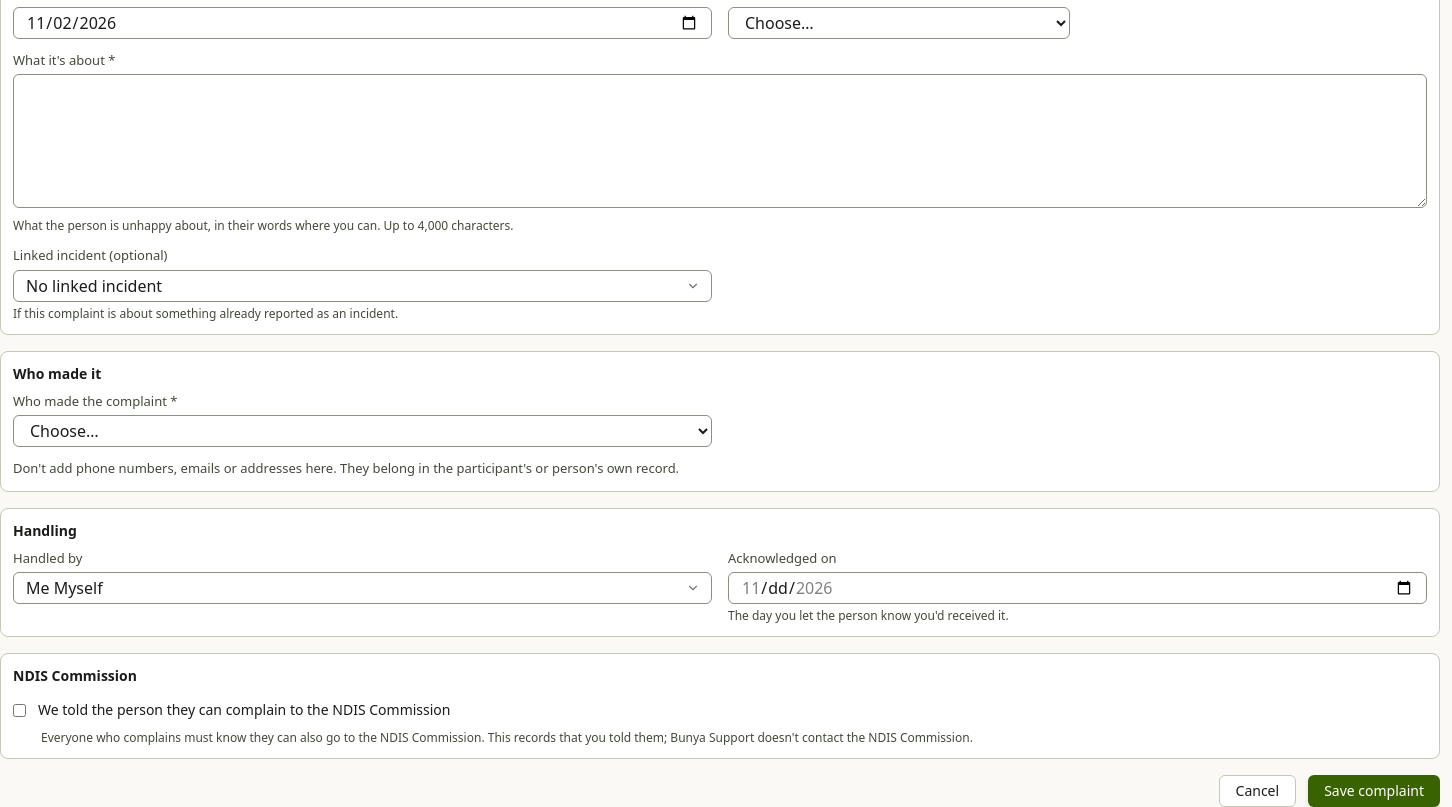
Test case: ComplaintFormPage › shows the required-field messages, makes no request, and focuses the first invalid field
(page scrolled)
Click the button "Save complaint": coordinates (1374, 791) [1308,775,1440,806]
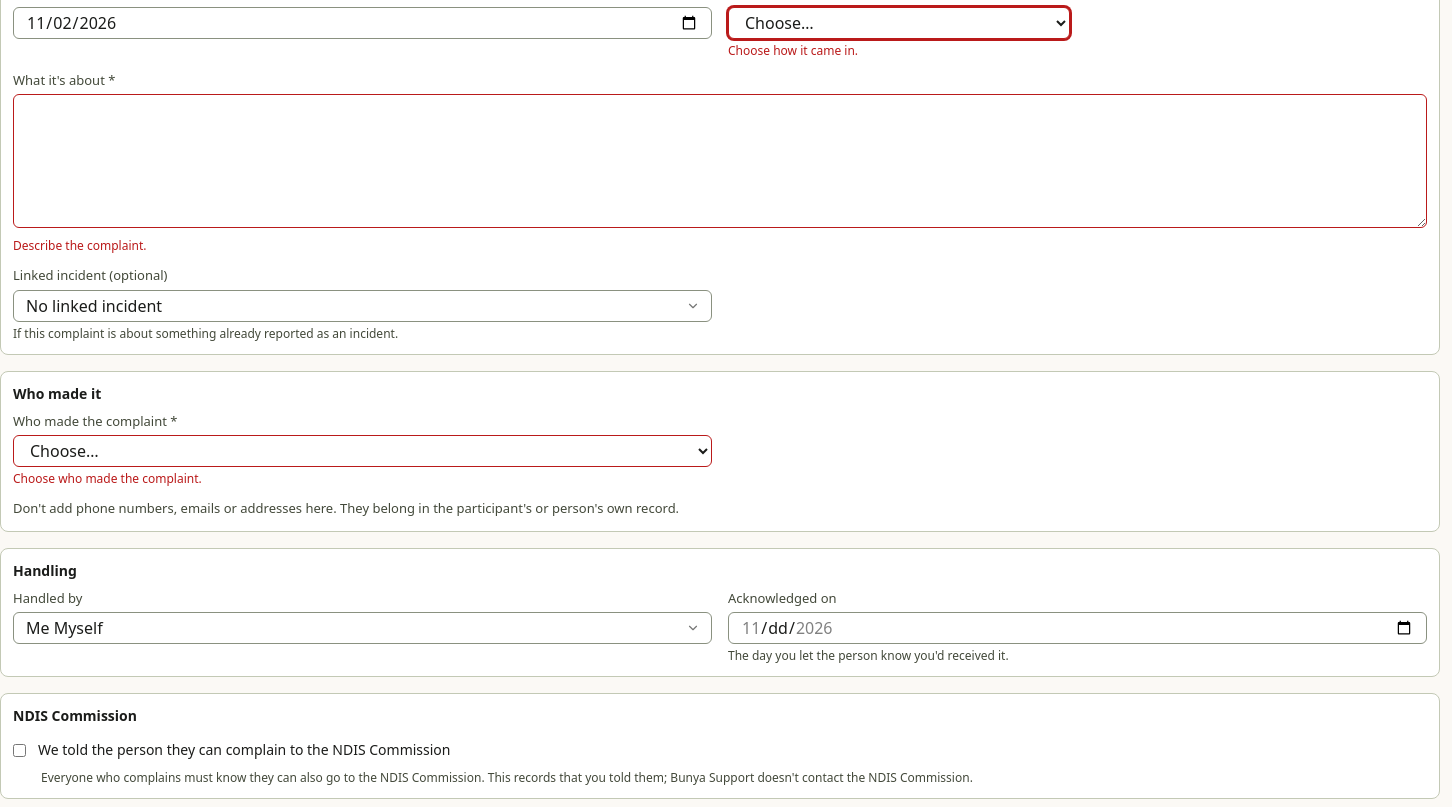
Now the text "Choose how it came in." is shown, box [728,42,858,58]
Now the text "Describe the complaint." is shown, box [13,237,146,254]
Now the text "Choose who made the complaint." is shown, box [13,470,202,487]
